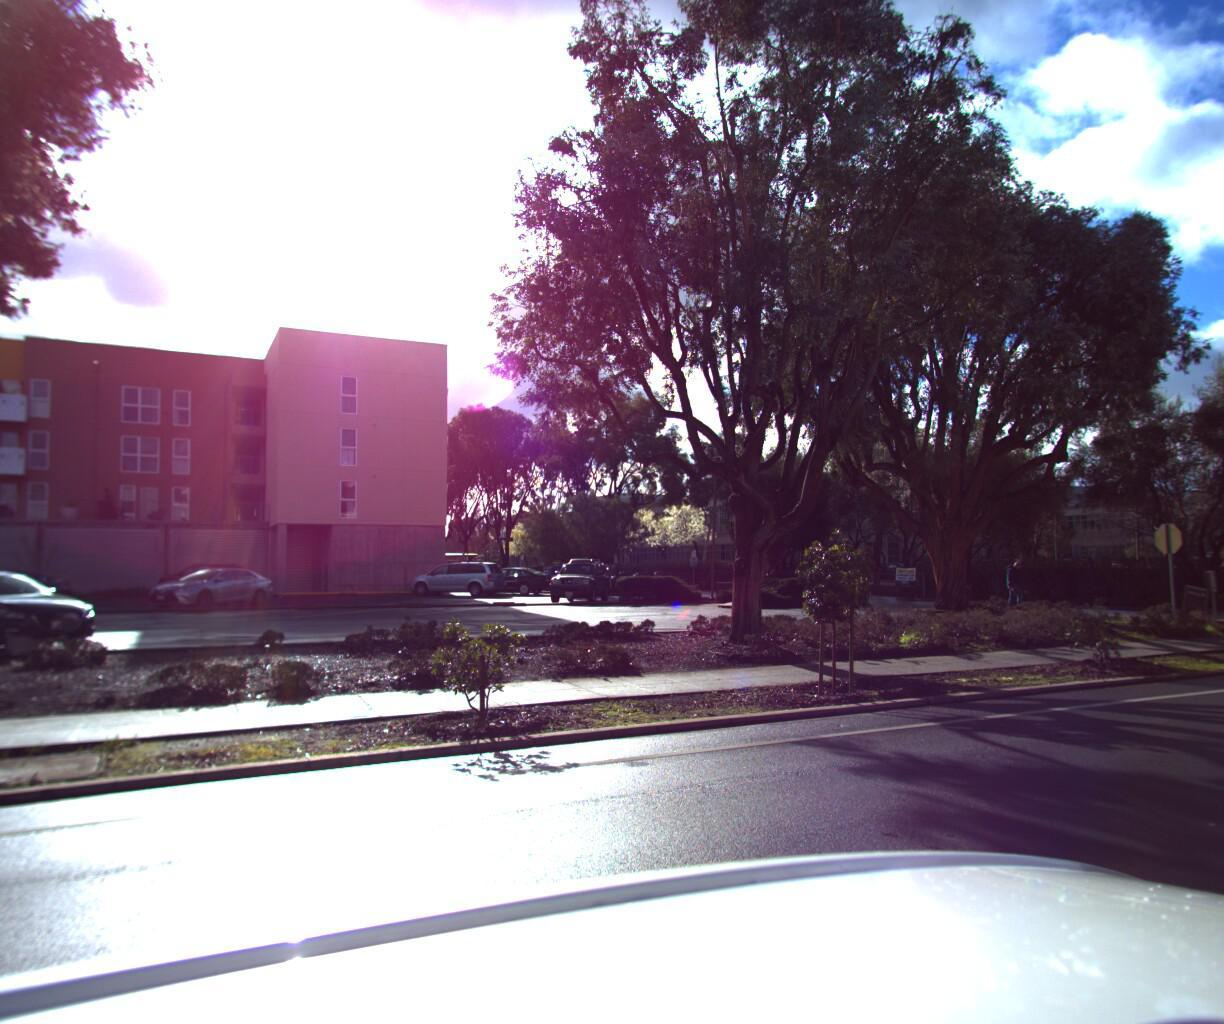car: (0, 569, 110, 669)
